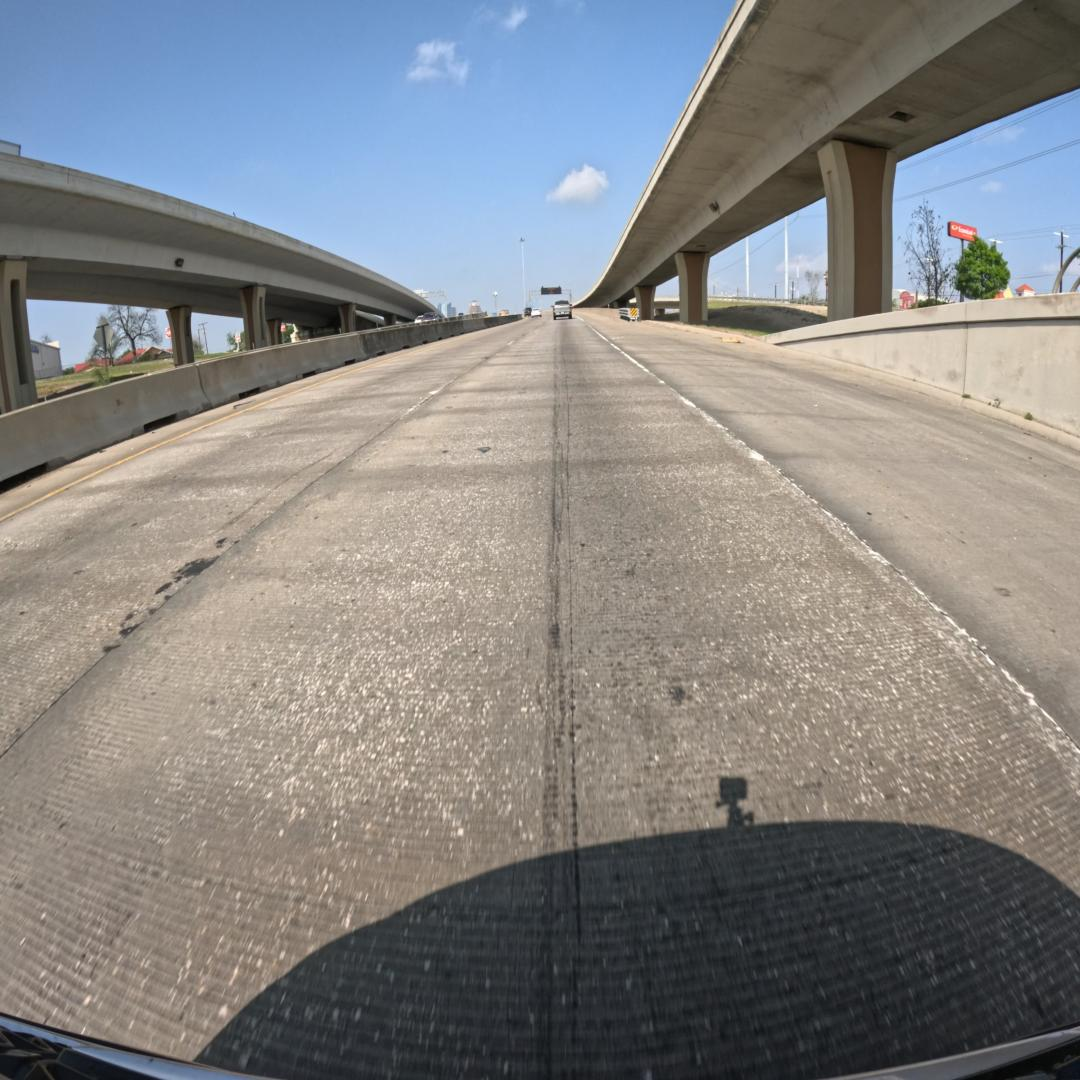lane0: (0, 323, 1080, 1077)
lane1: (0, 325, 522, 755)
